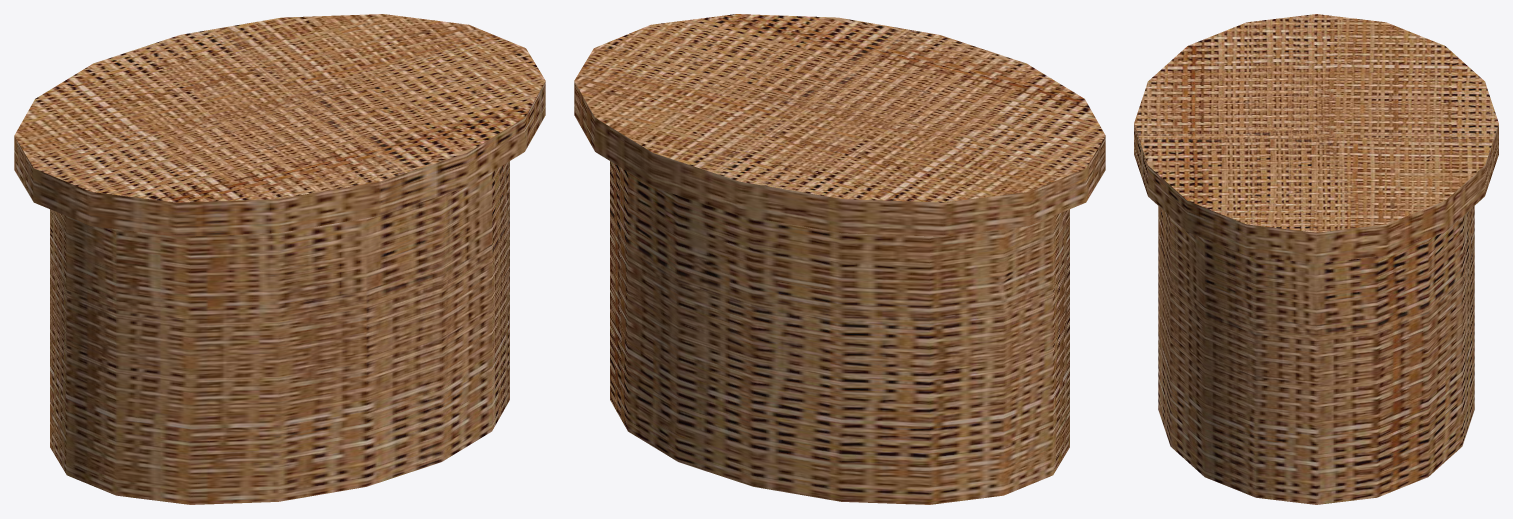
File: BasketOval.FBX
The picture shows the model from 3 angles, left to right: view 1: azimuth 30°, elevation 25°; view 2: azimuth 150°, elevation 25°; view 3: azimuth 270°, elevation 25°; orthographic projection. The views are drawn at different scales.
Parts seen in each view (by area): view 1: BasketOval; view 2: BasketOval; view 3: BasketOval.
Boxes of the visible parts, x1=… form: BasketOval: x1=14, y1=14, x2=545, y2=504; BasketOval: x1=574, y1=14, x2=1105, y2=504; BasketOval: x1=1134, y1=14, x2=1498, y2=504.
Bounding box in the file's own units: 0.4697 × 0.2872 × 0.3311.
